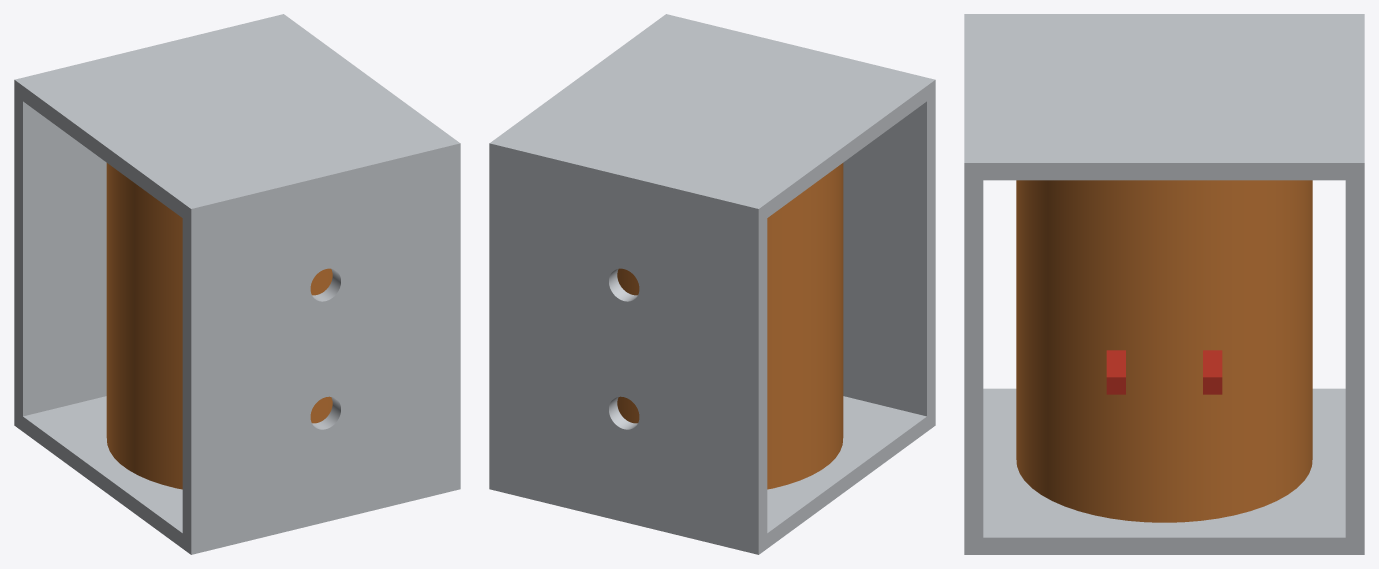
File: sol_jf0826_corpo.glb
3 views of the same model, side by side, from view 1: azimuth 30°, elevation 25°; view 2: azimuth 150°, elevation 25°; view 3: azimuth 270°, elevation 25° (orthographic). The views are drawn at different scales.
Parts seen in each view (by area): view 1: sol_jf0826_corpo; view 2: sol_jf0826_corpo; view 3: sol_jf0826_corpo.
Part boxes in pixels (x1,y1,x2,y2): sol_jf0826_corpo: (14,14,460,554); sol_jf0826_corpo: (489,14,935,554); sol_jf0826_corpo: (964,14,1364,554).
Bounding box in the file's own units: 26 × 27 × 25.
